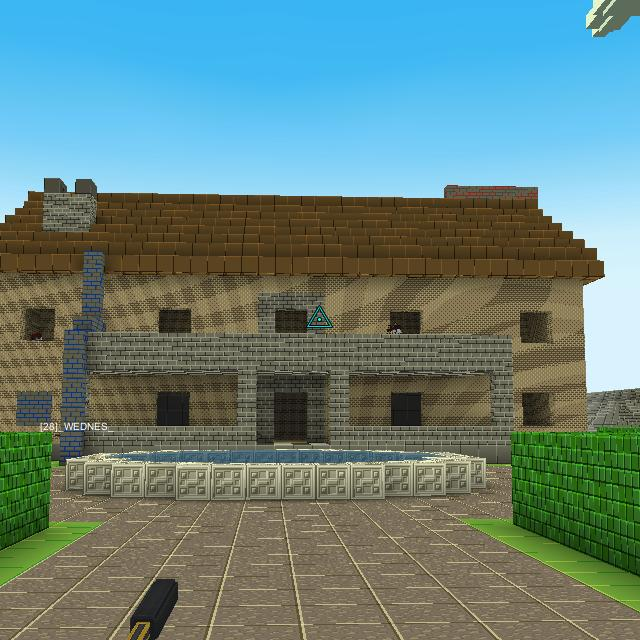enemy: (386, 322, 404, 335), (30, 331, 42, 341)
